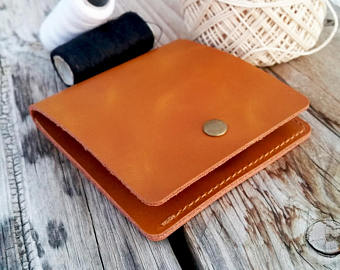monedero: (27, 37, 315, 245)
